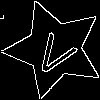V: (29, 24, 84, 80)
